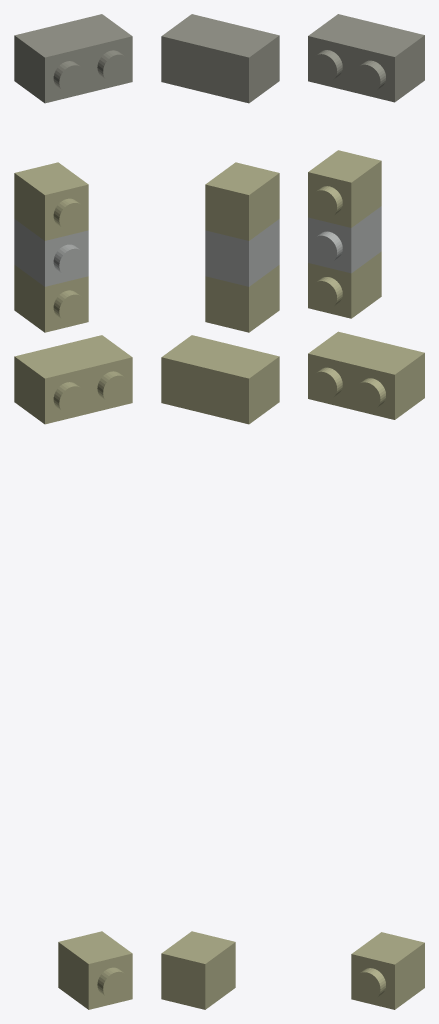
File: current.glb
3 views of the same model, side by side, from view 1: azimuth 30°, elevation 25°; view 2: azimuth 150°, elevation 25°; view 3: azimuth 330°, elevation 25° (orthographic).
Parts seen in each view (by area): view 1: world; view 2: world; view 3: world.
Boxes of the visible parts, box(x1,y1,x2,y2) form: world: box(14, 14, 132, 1009); world: box(161, 14, 279, 1009); world: box(308, 14, 424, 1009).
Bounding box in the file's own units: 16 × 168 × 11.4.
